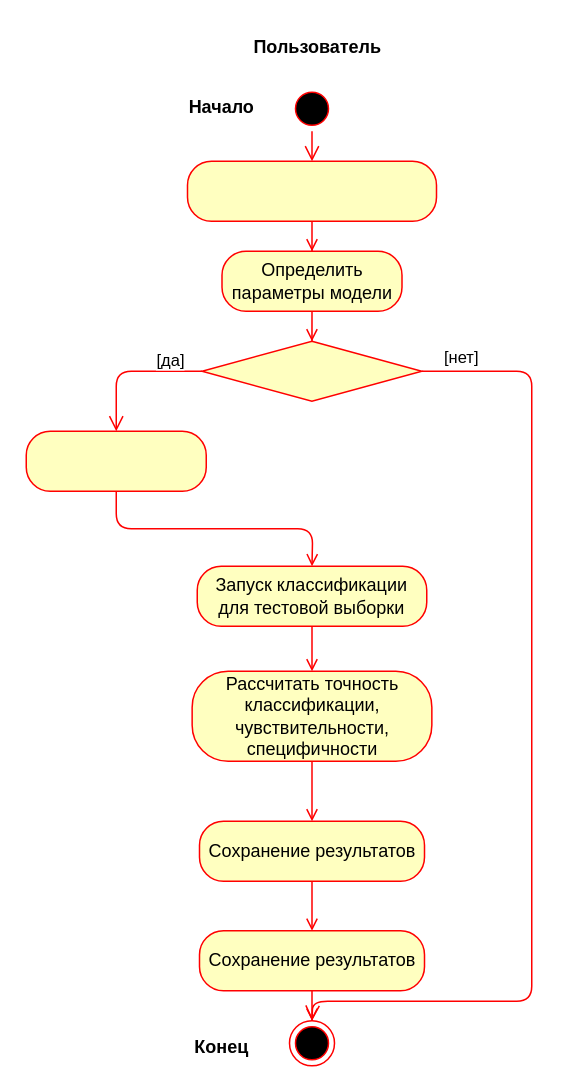
Image size: 573x1092. Some labels were removed from this diagram. The centre of each missing label's shape, as x and y in pixels:
Загрузить данные обучающей выборки: [311,190]
Обучение модели: [115,460]
Обучить модель?: [311,370]
